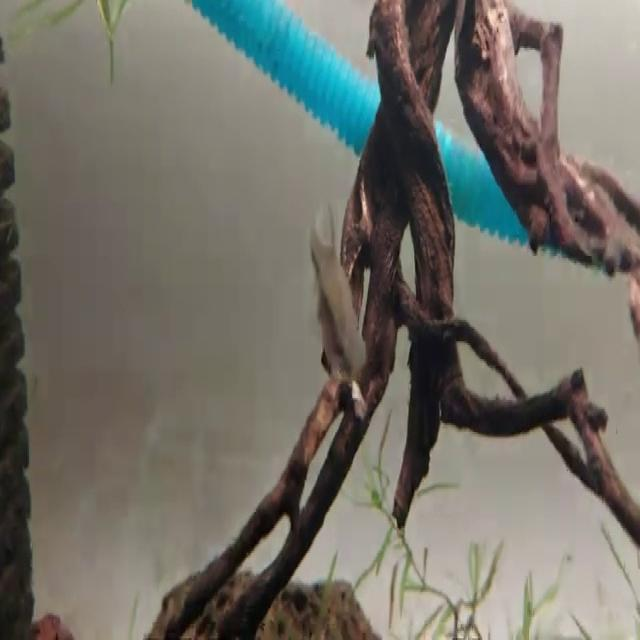Cakil Baligi: (298, 206, 375, 396)
